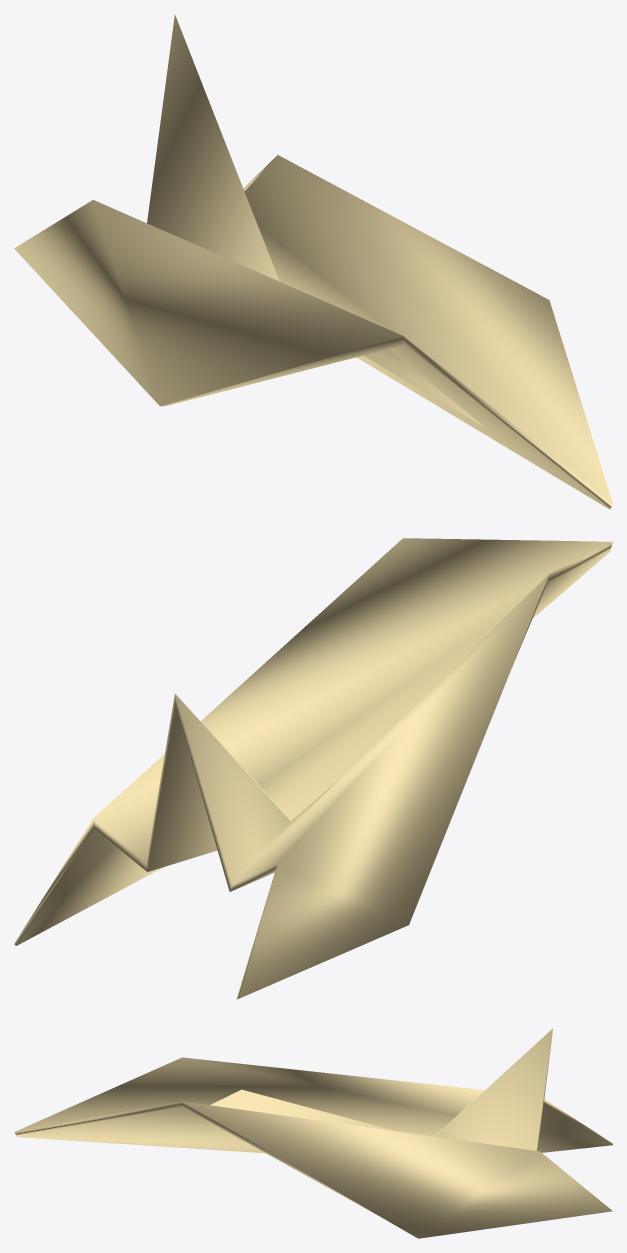
Rendered from PAPER AIRPLAIN3.fbx.
3 renders of one model, top to bottom at view 1: azimuth 30°, elevation 25°; view 2: azimuth 150°, elevation 25°; view 3: azimuth 270°, elevation 25°, orthographic. The views are drawn at different scales.
Visible parts, largest first — view 1: Cube.2; view 2: Cube.2; view 3: Cube.2.
Part boxes in pixels (box(x1,y1,x2,y2)): Cube.2: box(14, 15, 612, 509); Cube.2: box(14, 538, 612, 999); Cube.2: box(14, 1028, 612, 1238).
Size of the model in its own units: 251 by 272 by 848.
